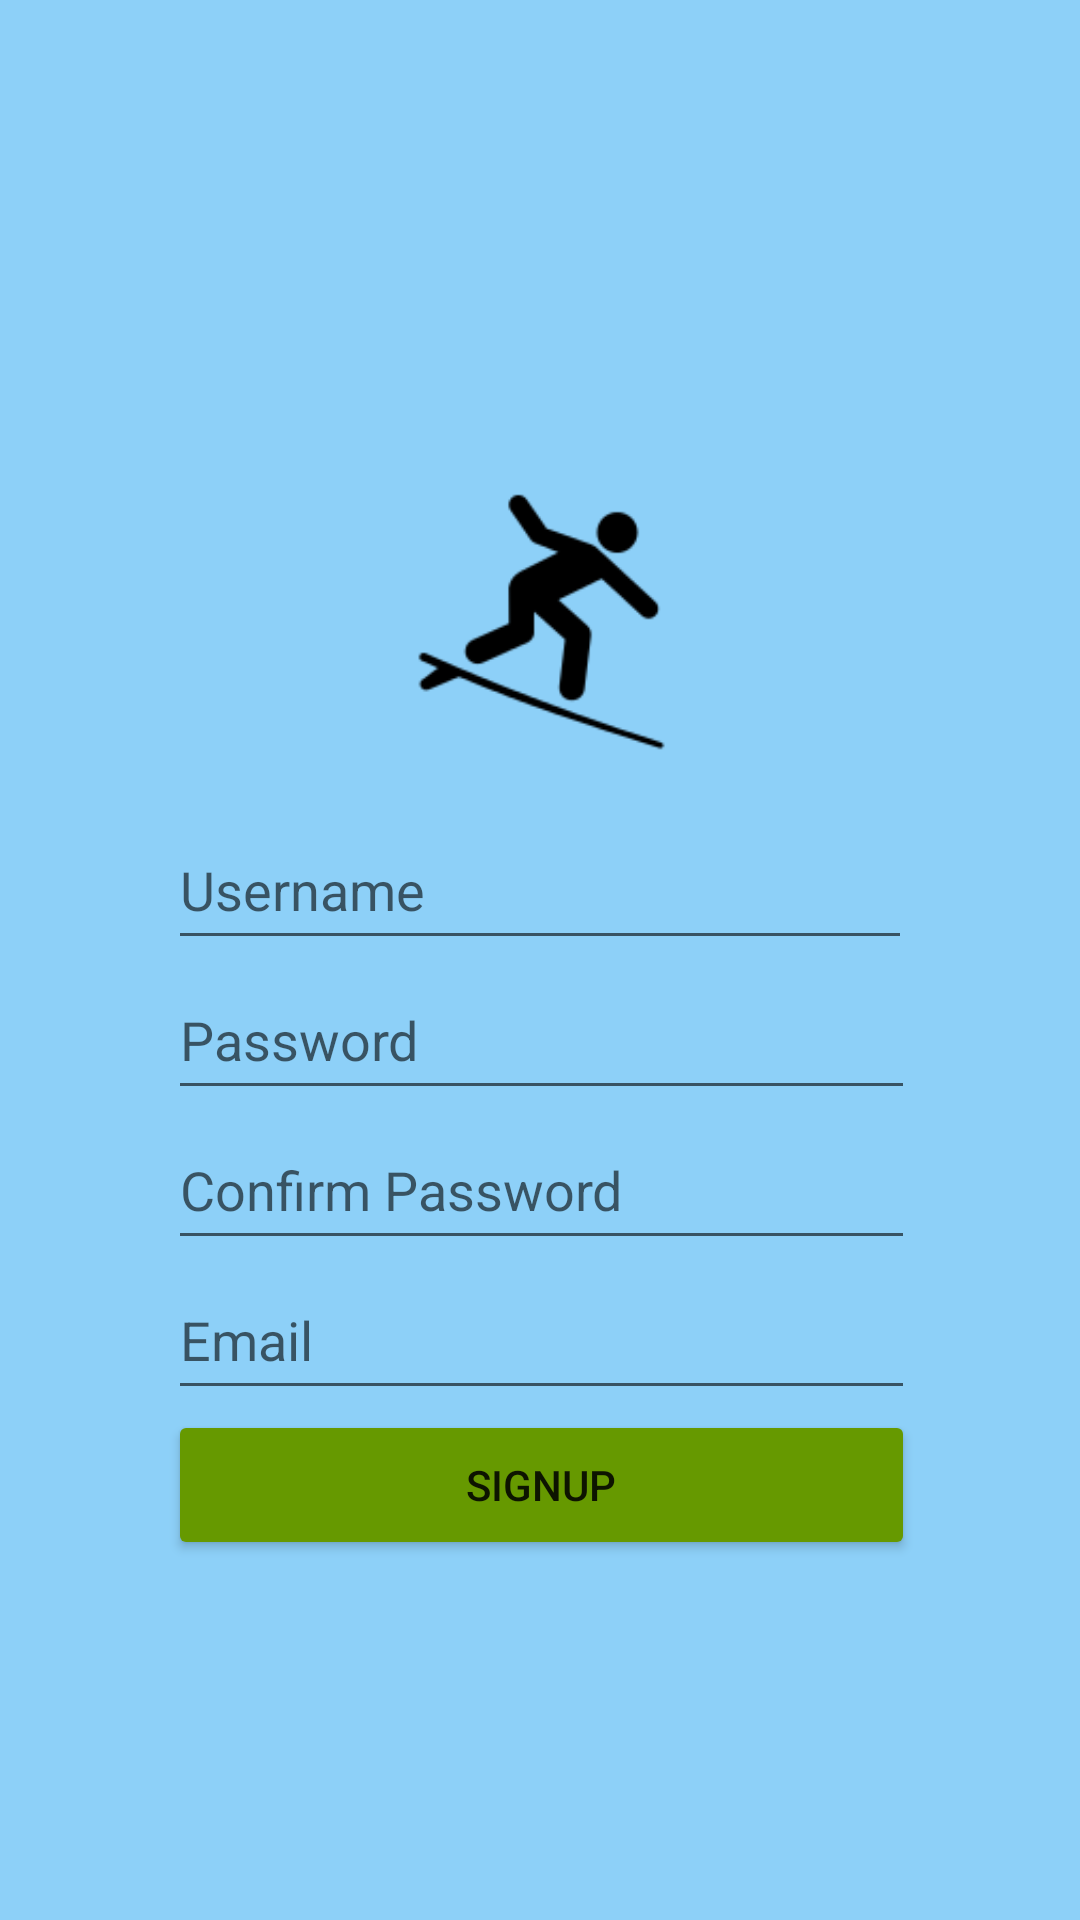

Icon bounding boxes for this 1080×1920 phone screenshot, format (x1, y1, x2, y2):
surfer: (418, 494, 665, 750)
